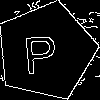P: (21, 26, 59, 75)
